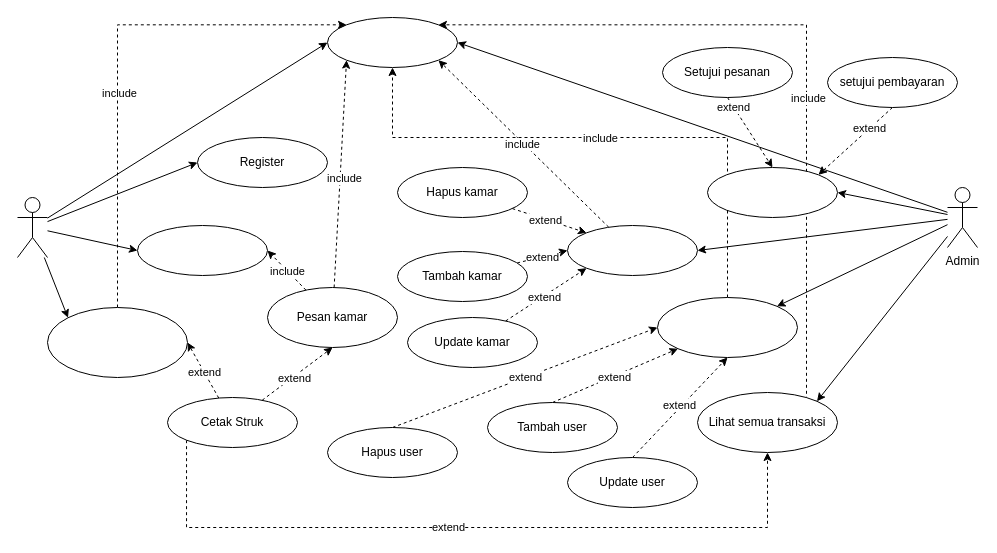
This 997x553 diagram has some shape labels left out. The shapes that lost their labels are listed below. From the top down, each one's centre as x and y in pixels, then its label:
At point (392, 42): "Login".
At point (772, 192): "Konfirmasi pesanan".
At point (32, 227): "User".
At point (202, 250): "Pilih kamar".
At point (632, 250): "Kelola kamar".
At point (117, 342): "Lihat riwayat pesanan".
At point (727, 327): "Lihat semua user".
